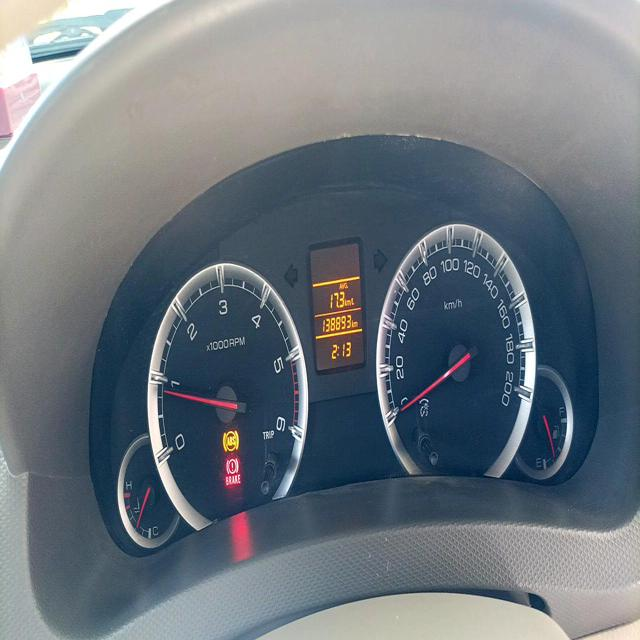odometer: (322, 312, 352, 334)
